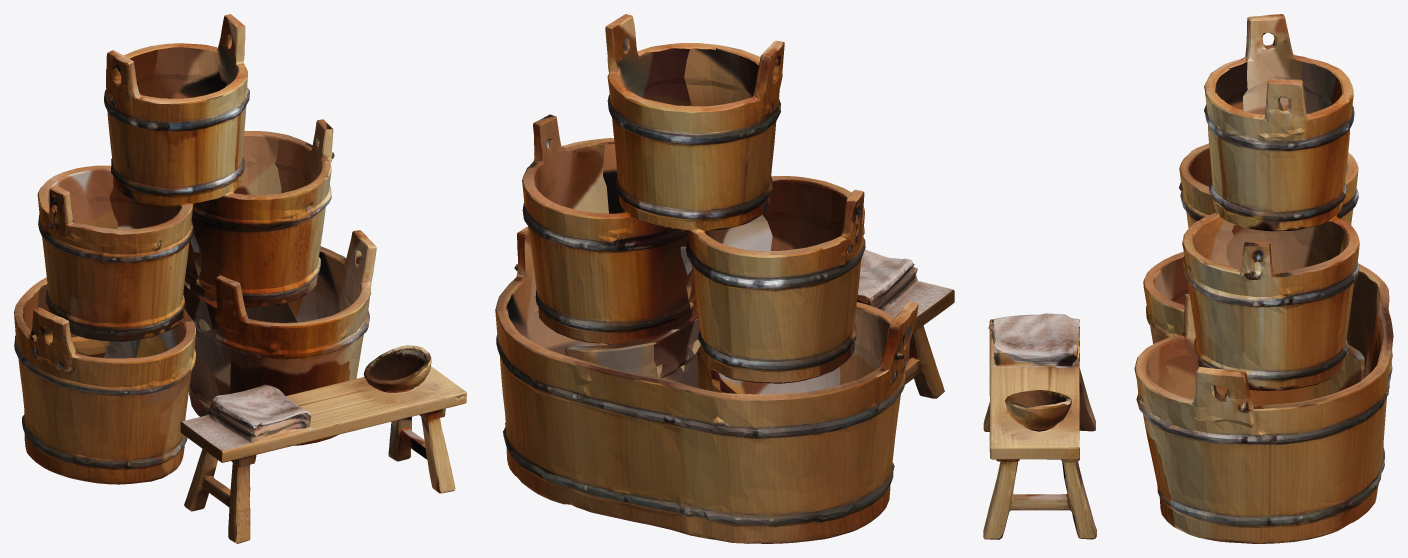
File: traveler_env_coast_kensu_bath_supplies_00001_.glb
3 renders of one model, left to right at view 1: azimuth 30°, elevation 25°; view 2: azimuth 150°, elevation 25°; view 3: azimuth 270°, elevation 25°, orthographic. The views are drawn at different scales.
Parts seen in each view (by area): view 1: temp_mesh.ply; view 2: temp_mesh.ply; view 3: temp_mesh.ply.
Boxes of the visible parts, <box> form: temp_mesh.ply: <box>14,14,466,543</box>; temp_mesh.ply: <box>495,14,954,543</box>; temp_mesh.ply: <box>983,14,1393,543</box>.
Size of the model in its own units: 1.77 by 1.97 by 1.76.
1 material, 1 textured.
